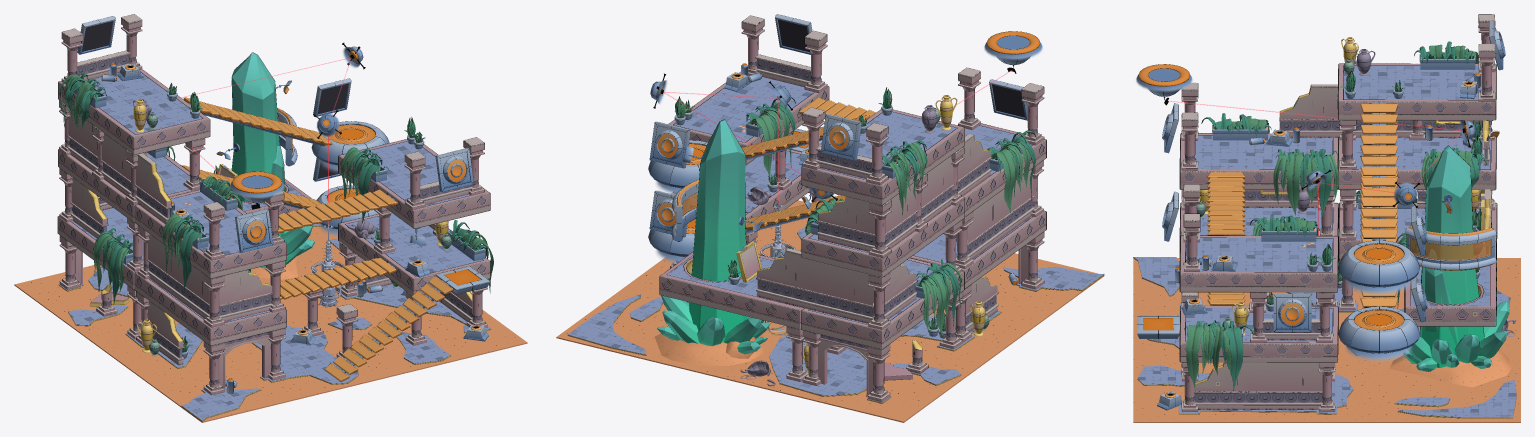
File: 1lobb.glb
The picture shows the model from 3 angles, left to right: view 1: azimuth 30°, elevation 25°; view 2: azimuth 150°, elevation 25°; view 3: azimuth 270°, elevation 25°; orthographic projection. The views are drawn at different scales.
Parts seen in each view (by area): view 1: Room16B_Floor_Tiles_0; view 2: Room16B_Floor_Tiles_0; view 3: Room16B_Floor_Tiles_0.
Boxes of the visible parts, x1,y1,x2,y2 form: Room16B_Floor_Tiles_0: (14, 14, 527, 422); Room16B_Floor_Tiles_0: (556, 14, 1104, 422); Room16B_Floor_Tiles_0: (1133, 14, 1520, 422).
Bounding box in the file's own units: 26.19 × 19.7 × 25.97.
Materials: 8 (6 with a texture image).
